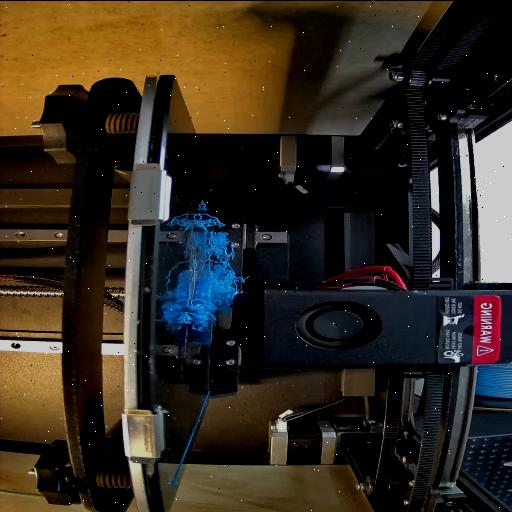spaghetti: (204, 232, 232, 304), (183, 296, 220, 330), (196, 212, 229, 232)
